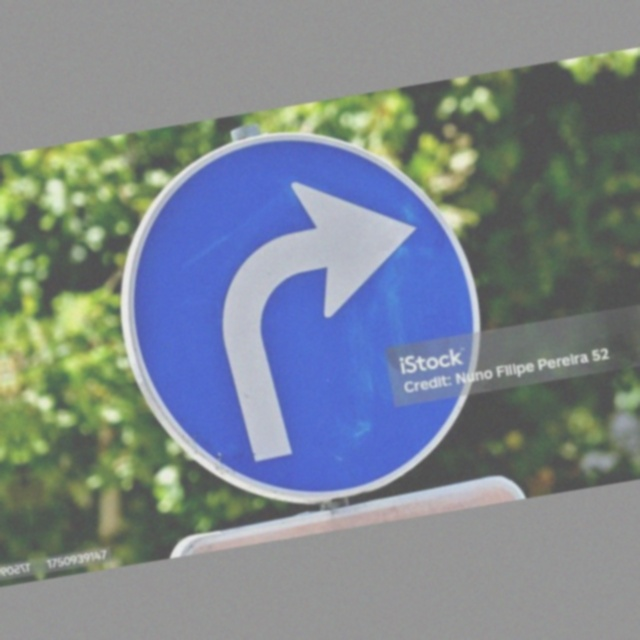Compulsory_Turn_Right_Ahead: (105, 106, 498, 513)
